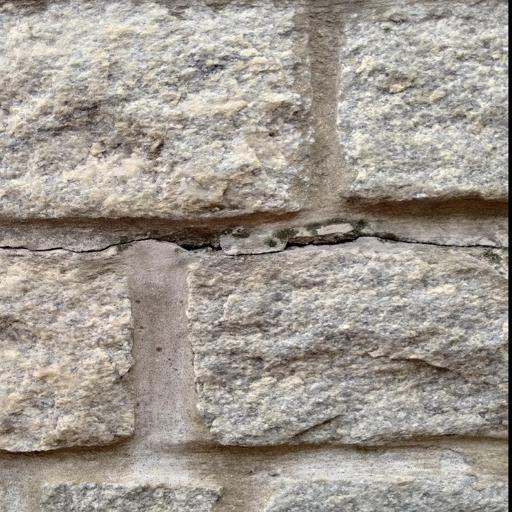minor_crack: (0, 202, 512, 282)
